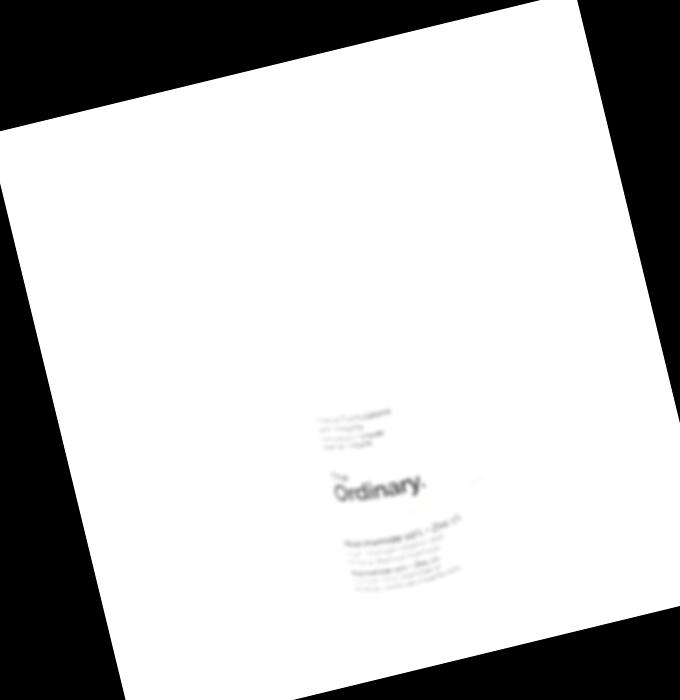cosmetic: (224, 87, 520, 650)
